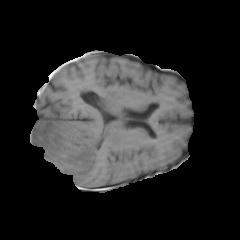glioma: (30, 120, 102, 181)
